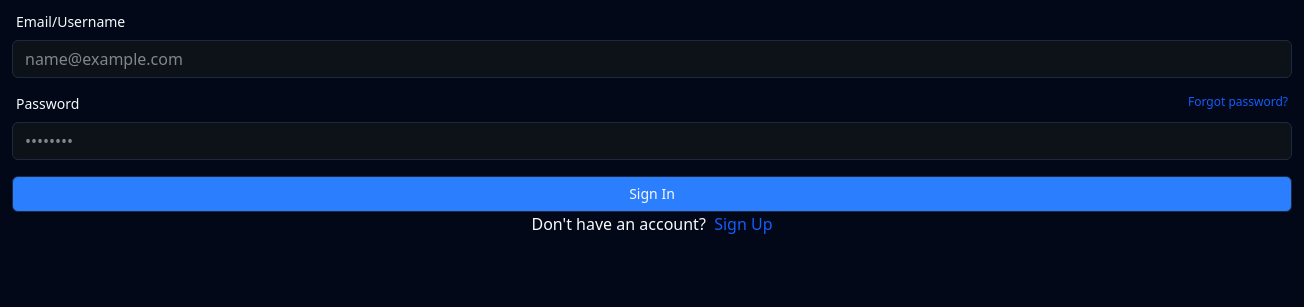
Test: SignInForm › shows validation errors if fields are empty on submit
Click the button "Sign In" at (652, 194), box [12,176,1292,212]
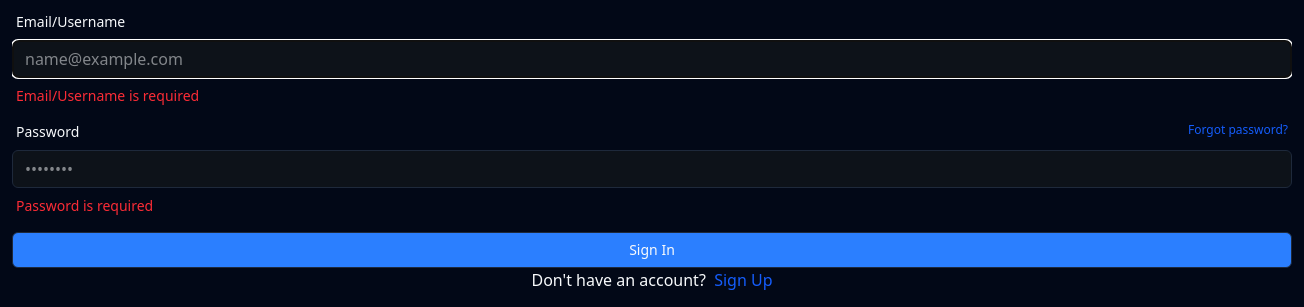
expect the text "Email/Username is required" is shown: met, box [16,86,199,105]
expect the text "Password is required" is shown: met, box [16,196,153,215]
